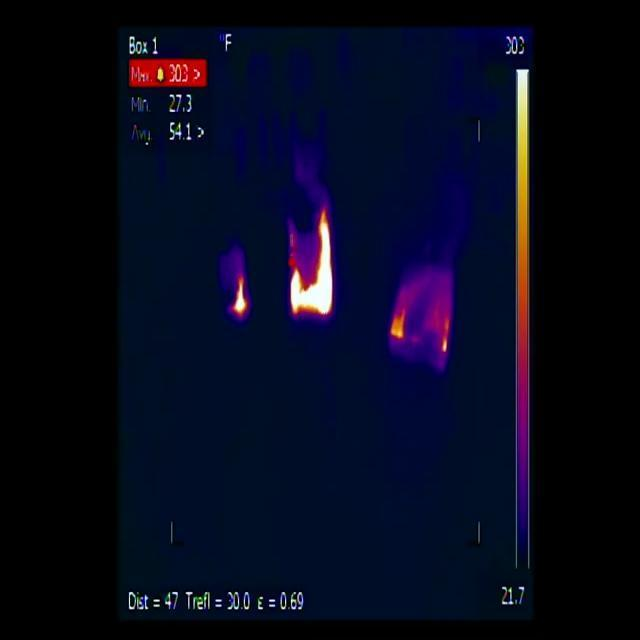fire: (289, 207, 335, 319), (230, 274, 252, 319), (389, 305, 412, 345), (442, 338, 451, 360)
